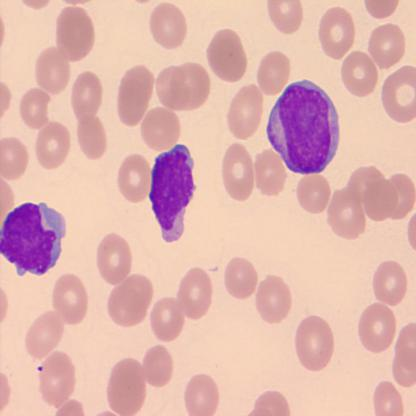Blast: (266, 78, 342, 176), (148, 142, 198, 243)
